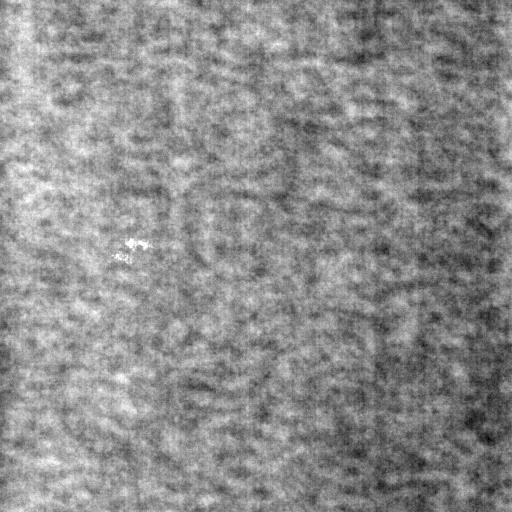DefectTypeA: (117, 234, 148, 263)
